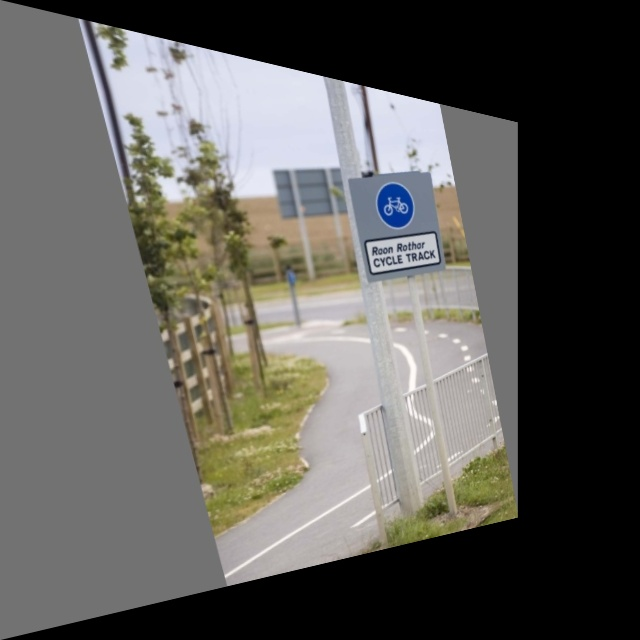Compulsory_Cycle_Track: (366, 170, 422, 240)
